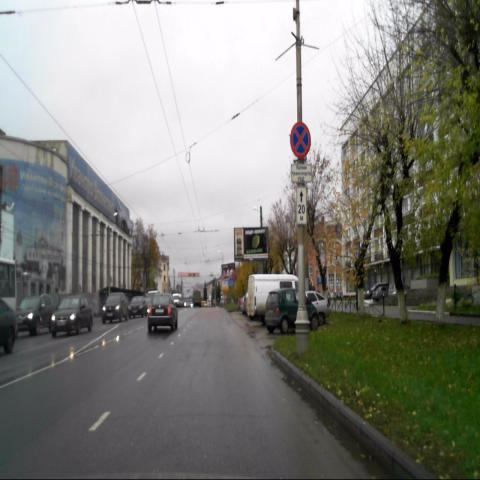8_2_2: (296, 186, 307, 224)
